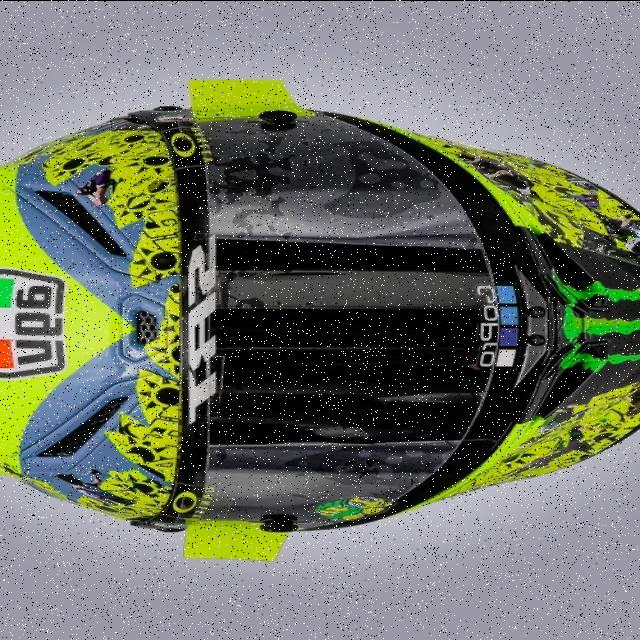Helmet: (0, 101, 637, 556)
